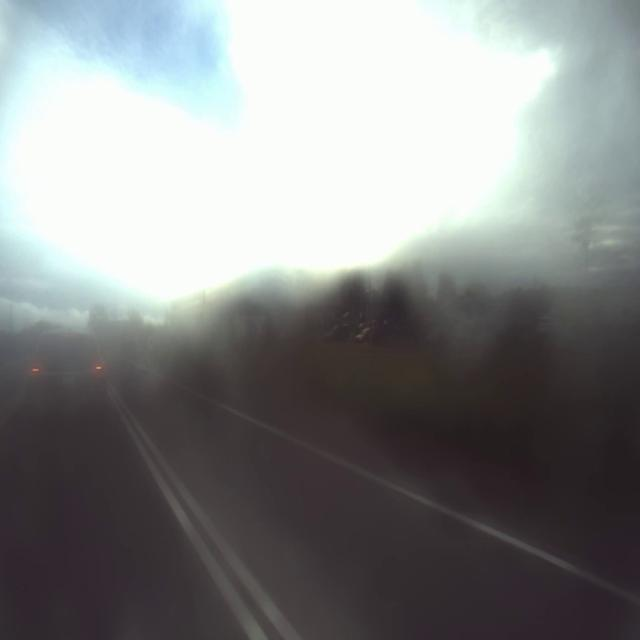car: (21, 322, 110, 431)
